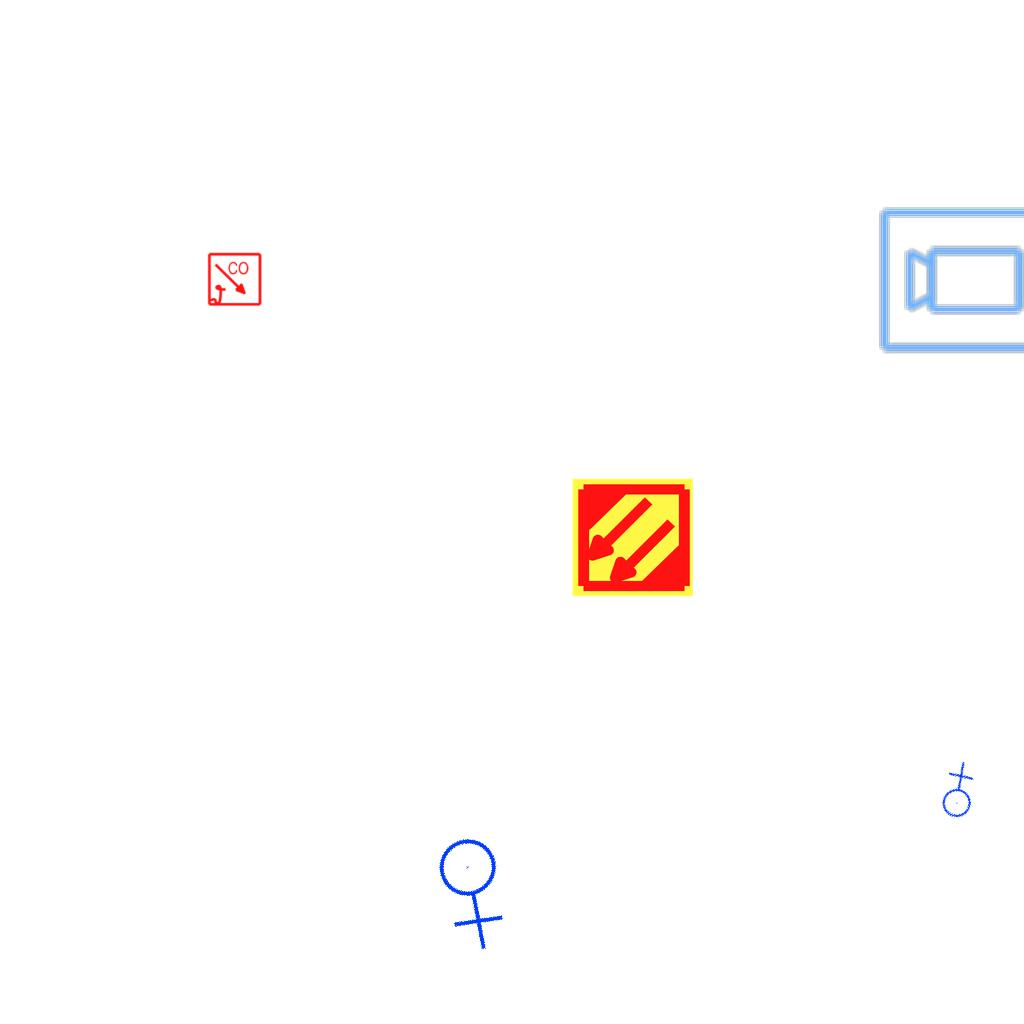ASR_Ansaugrauchmelder: (570, 475, 695, 600)
Elektroanschluss_allgemein_230V_Geraeteanschlussdose_230V: (409, 819, 542, 955), (922, 759, 991, 826)
KFO_Kamera_mit_Festobjektiv: (877, 202, 1024, 356)
ROA_Rauchmelder_optisch_mit_Signalgeber_(Sockelsirene): (207, 252, 263, 308)
